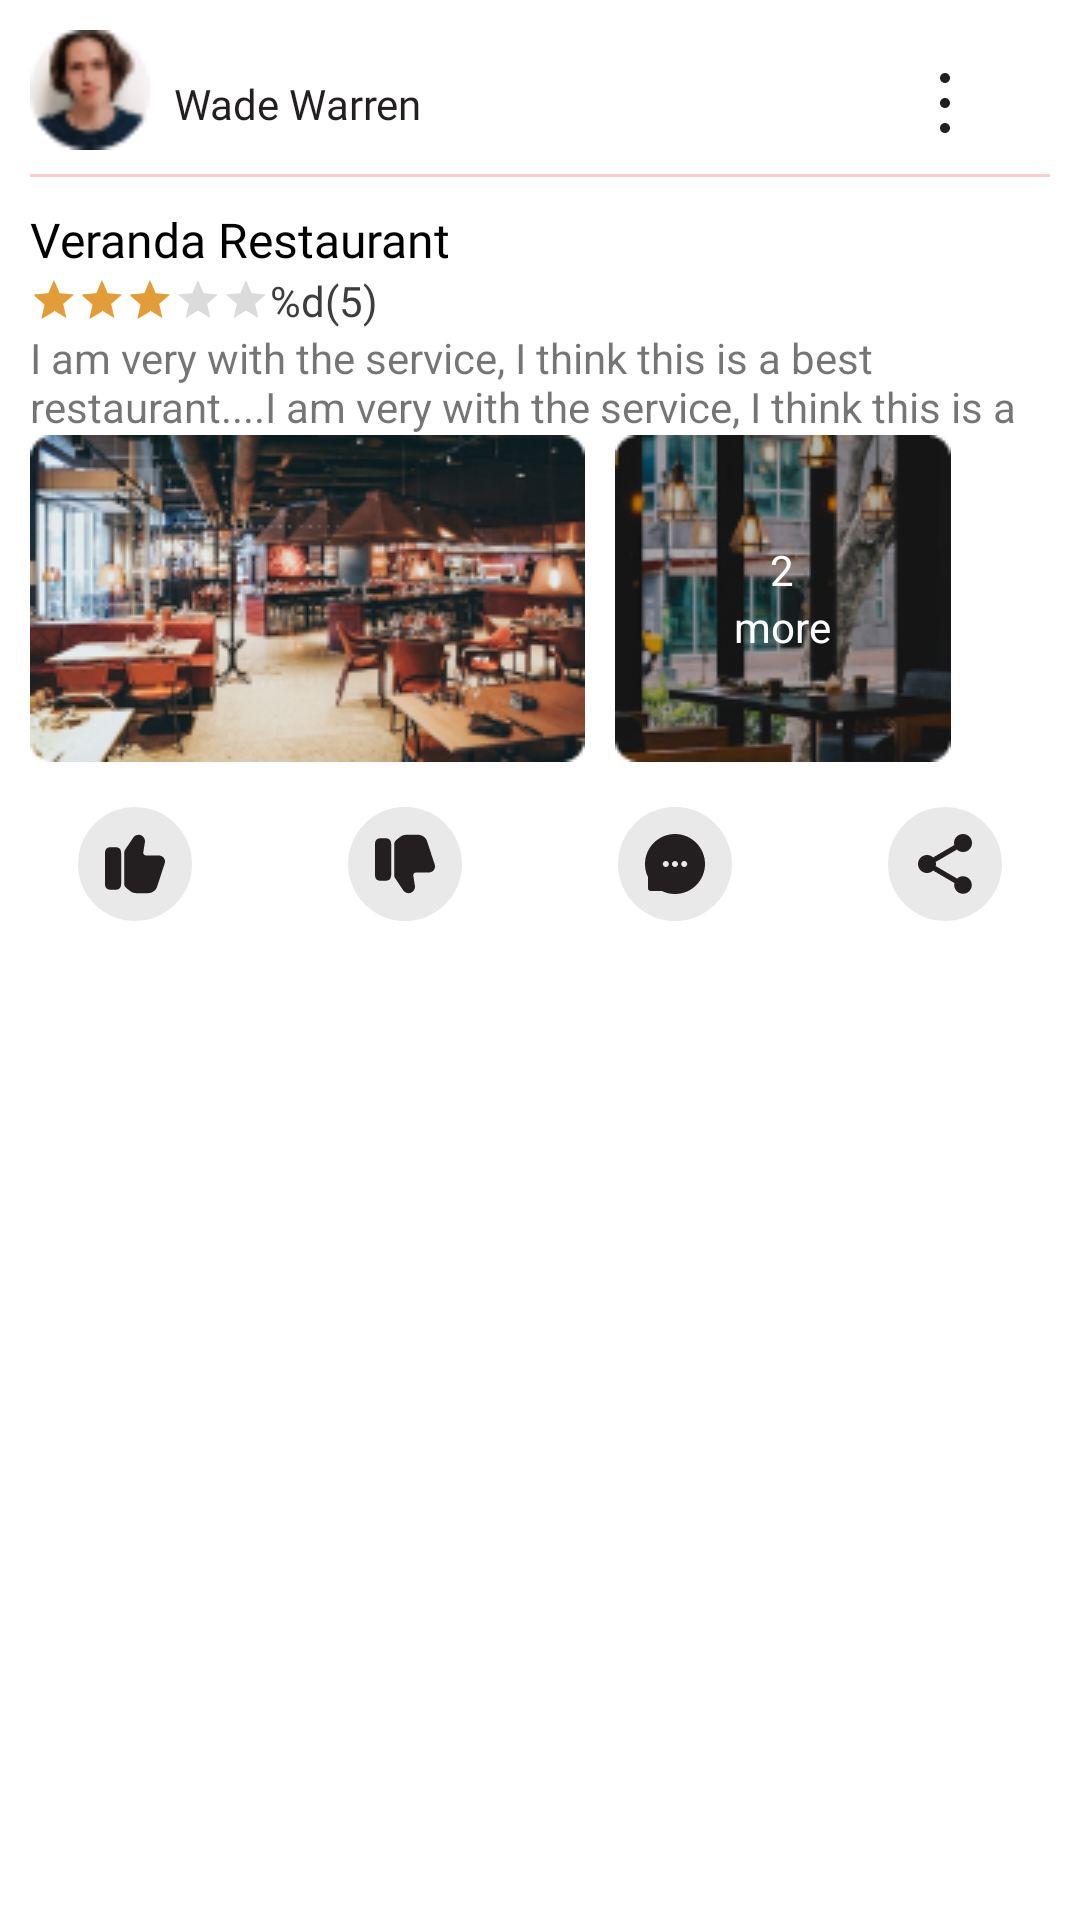

Icons on this 1080 × 1920 Android screen, each with the point to tap as (x,y):
allphotos: (783,598)
deselike: (405,864)
likeb: (135,864)
message: (675,864)
share: (945,864)
threedot: (945,103)
